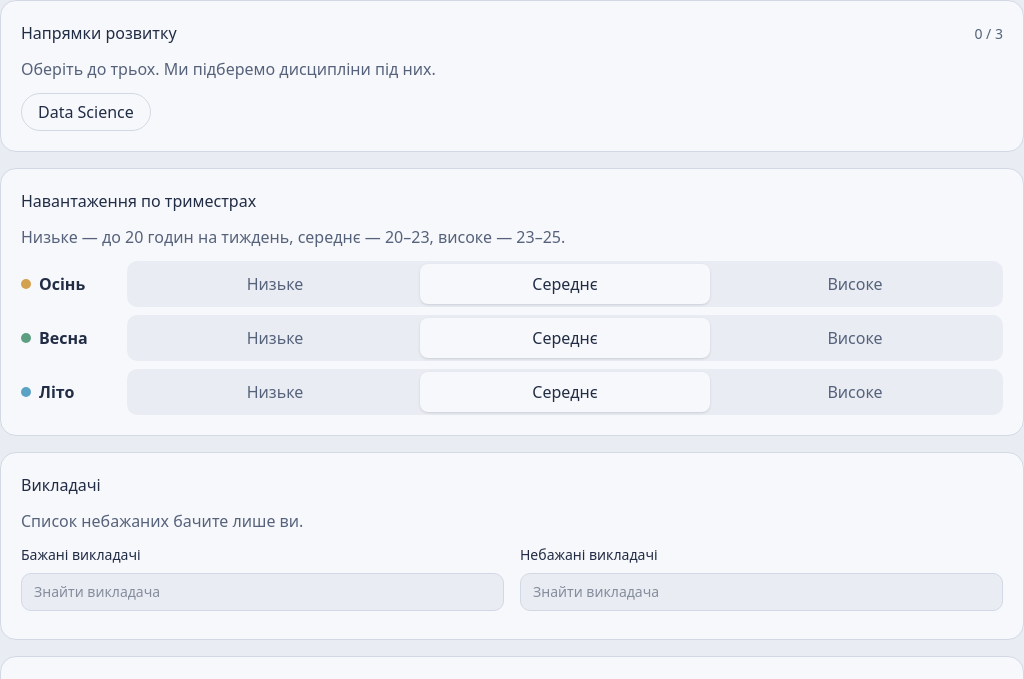
Test: пошук і вибір викладачів › викладач, доданий пошуком, має ім'я, навіть якщо його немає в словнику
The image size is (1024, 679).
Type "Ков" into the search field named "Знайти викладача (бажані)" at [262, 592], box [21,573,504,611]
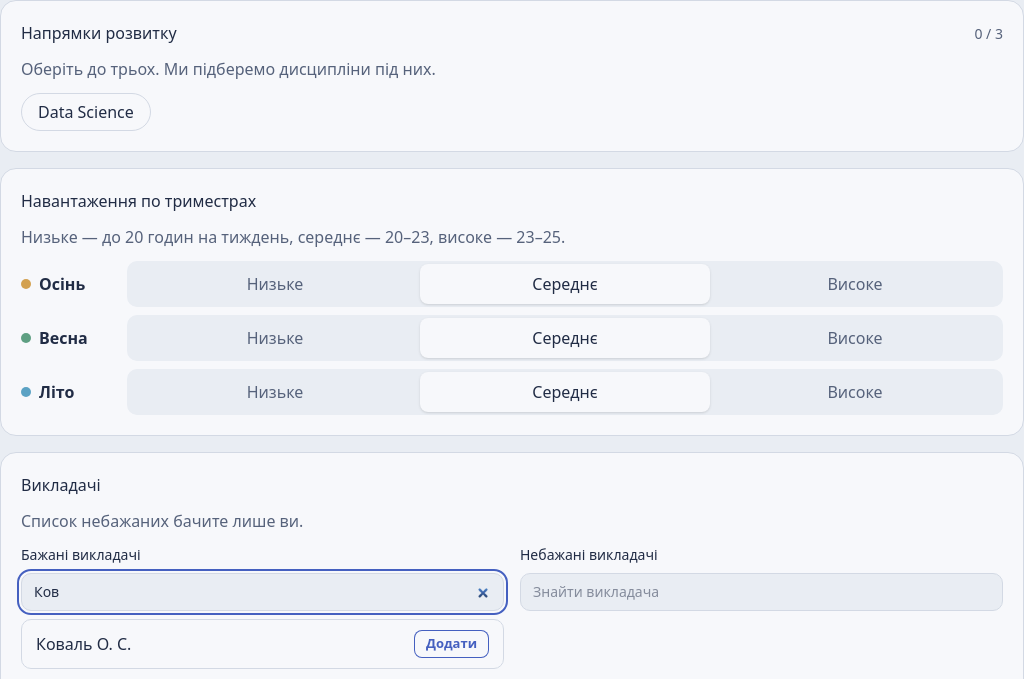
Click the button with aria-label "Додати Коваль О. С." at [452, 644], box [414,630,489,658]
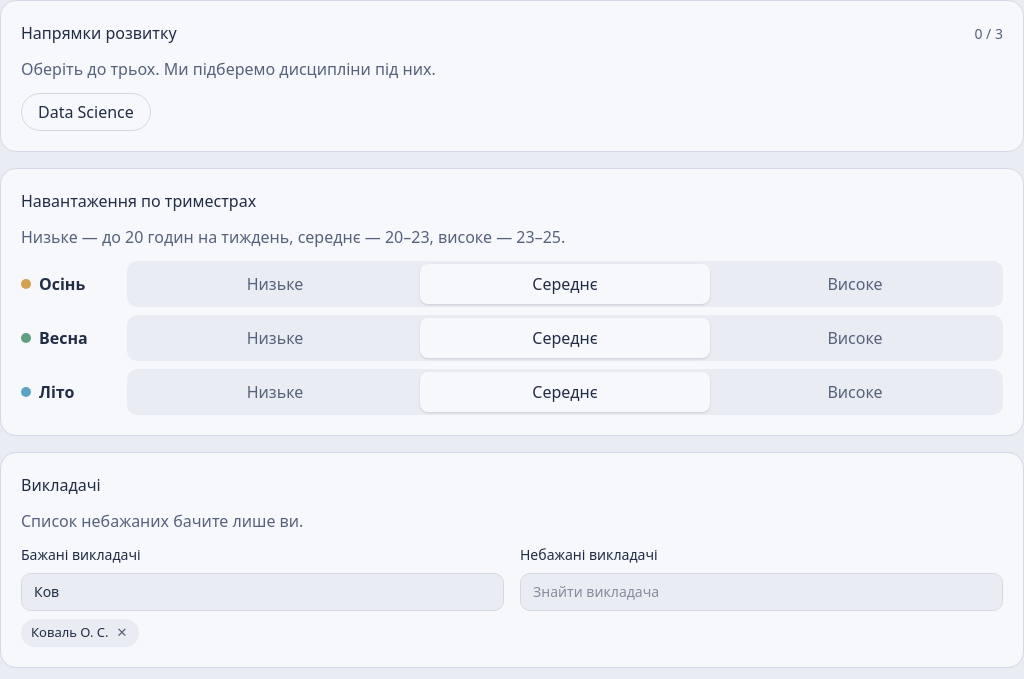
Result: the text "Коваль О. С." is shown at [31,623,108,641]
